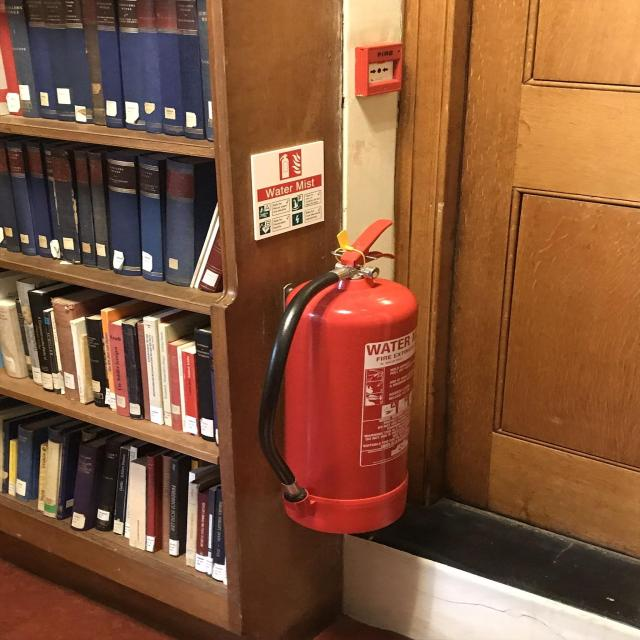fire_extinguisher: (254, 215, 416, 539)
